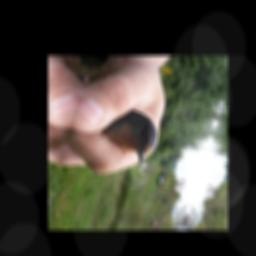Swallow: (94, 104, 166, 168)
